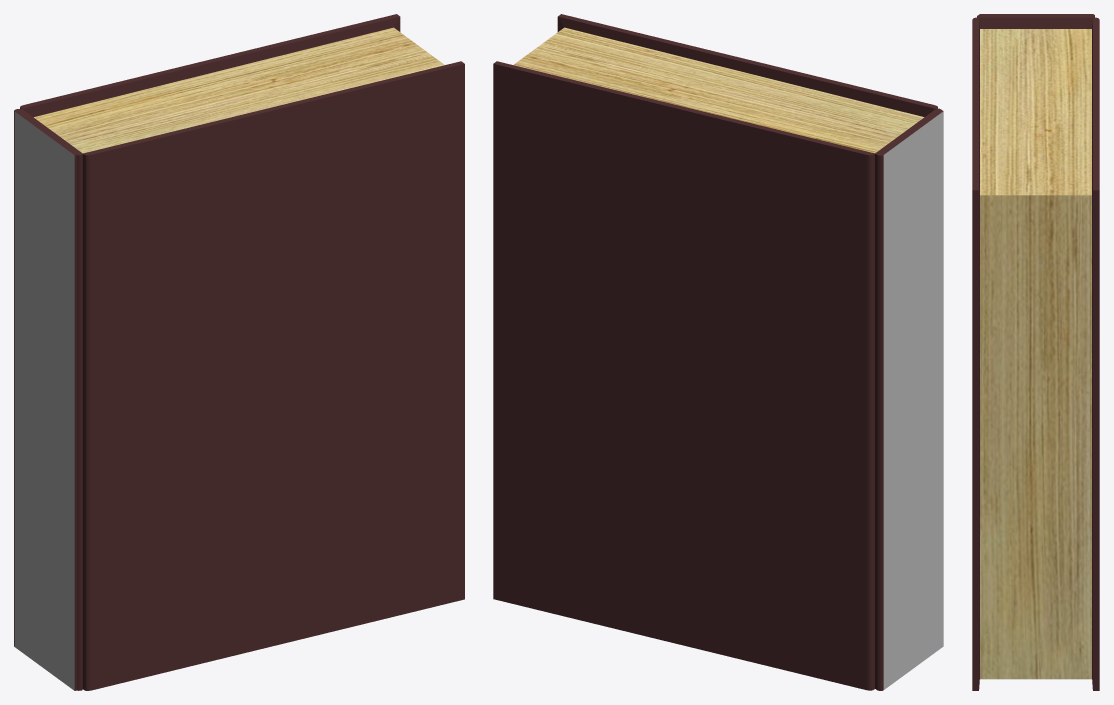
The model's file is 1kniga 1 untitled.fbx.
The picture shows the model from 3 angles, left to right: view 1: azimuth 30°, elevation 25°; view 2: azimuth 150°, elevation 25°; view 3: azimuth 270°, elevation 25°; orthographic projection. The views are drawn at different scales.
Parts seen in each view (by area): view 1: Cube.001; view 2: Cube.001; view 3: Cube.001.
Part boxes in pixels (box(x1,y1,x2,y2)): Cube.001: box(14, 14, 464, 690); Cube.001: box(493, 14, 943, 690); Cube.001: box(972, 14, 1099, 690).
Bounding box in the file's own units: 7.33 × 9.7 × 2.23.
